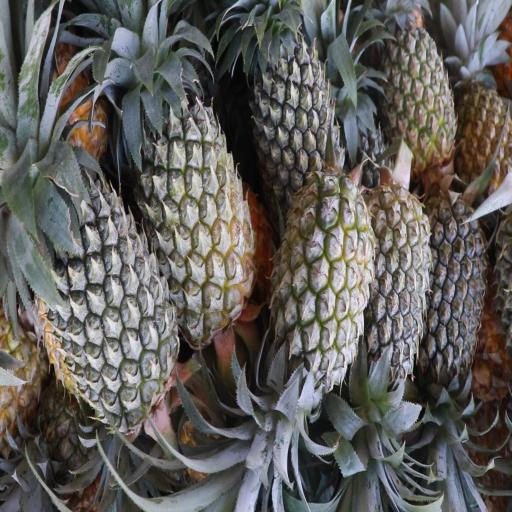------------------------------: (134, 91, 252, 326), (278, 174, 372, 392), (379, 9, 457, 179), (451, 66, 512, 190)
